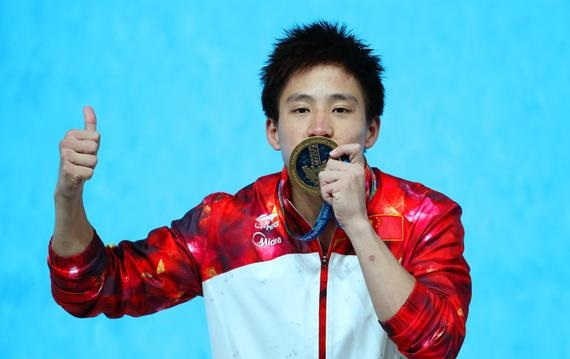face: (280, 66, 363, 188)
